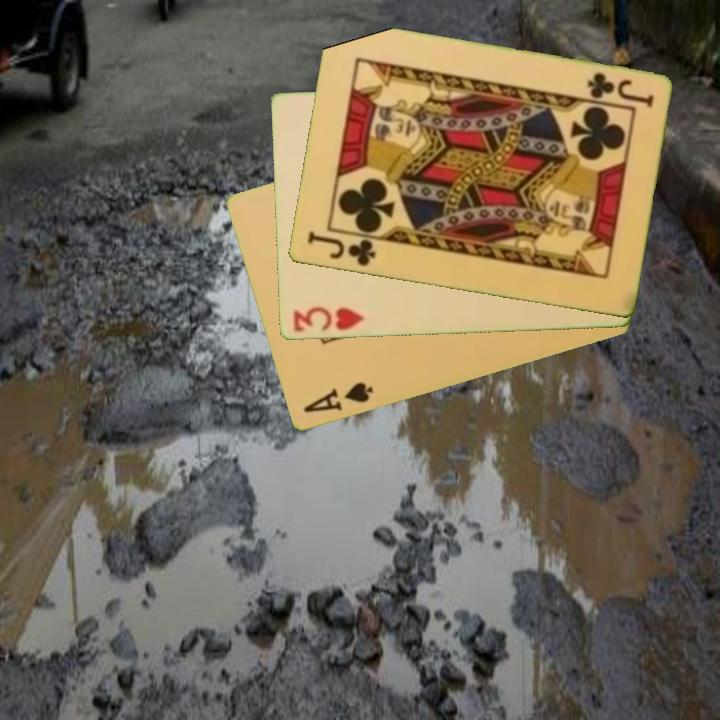3h: (289, 304, 367, 336)
As: (299, 379, 376, 417)
Jc: (303, 228, 378, 270), (583, 69, 656, 110)
